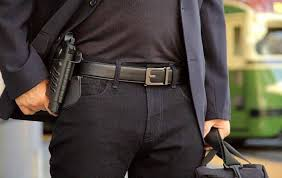F_belt: (71, 56, 193, 91)
